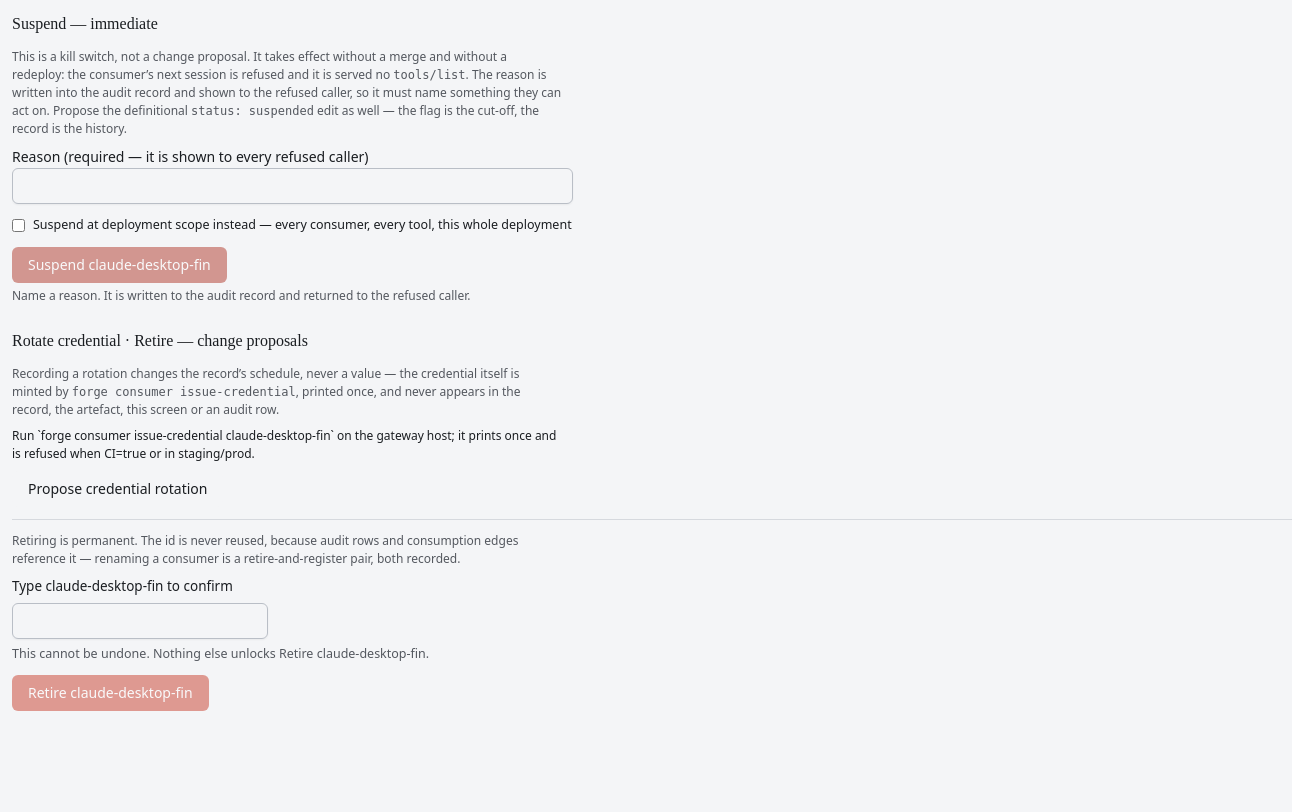
Scenario: ConsumerActions — Suspend is a kill-switch act; Retire is type-to-confirm › an admin sees the forge kill command for this consumer
The width and height of the screenshot is (1292, 812).
Type "leak" into the field with test id "consumer-kill-reason". click: (292, 186)
box: [12,168,572,204]
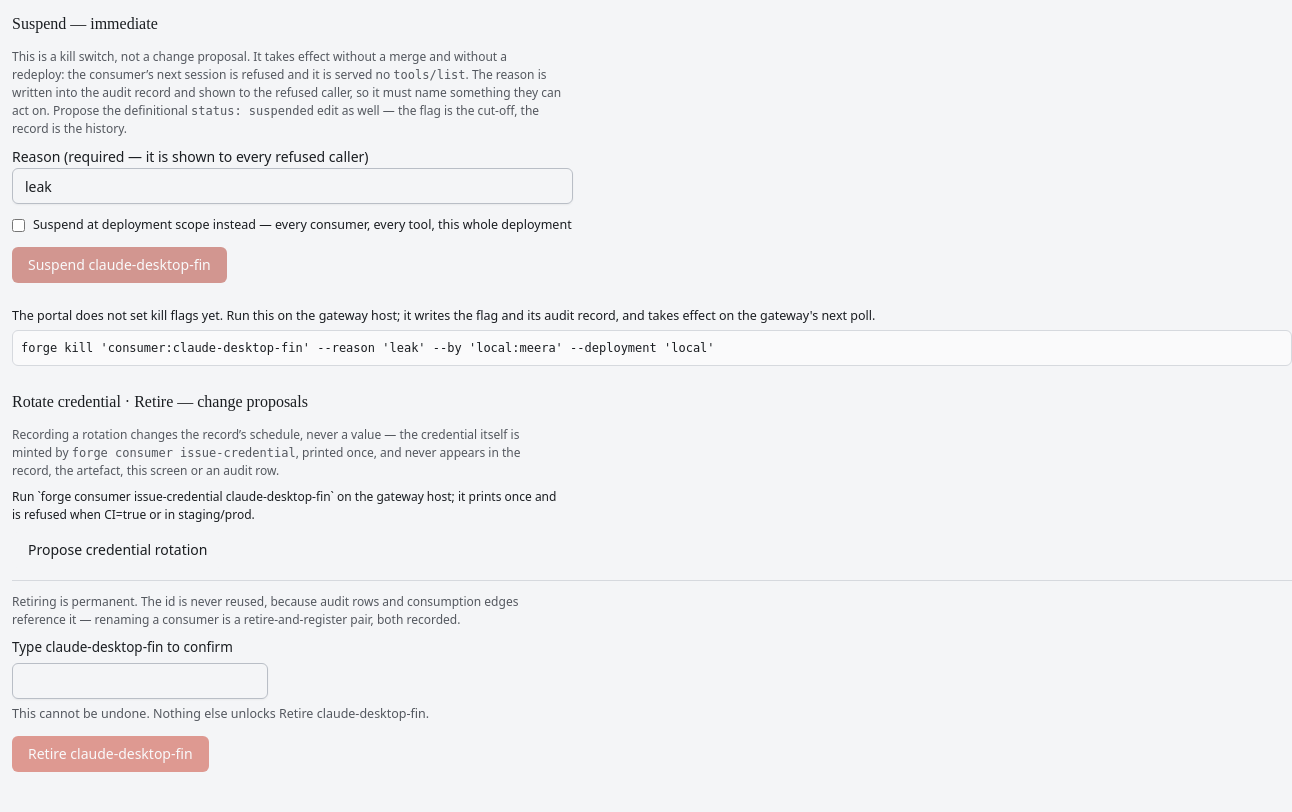
Result: the element with test id "consumer-kill-command" shows "forge kill 'consumer:claude-desktop-fin' --reason 'leak' --by 'local:meera' --deployment 'local'" at [21,340,715,354]
